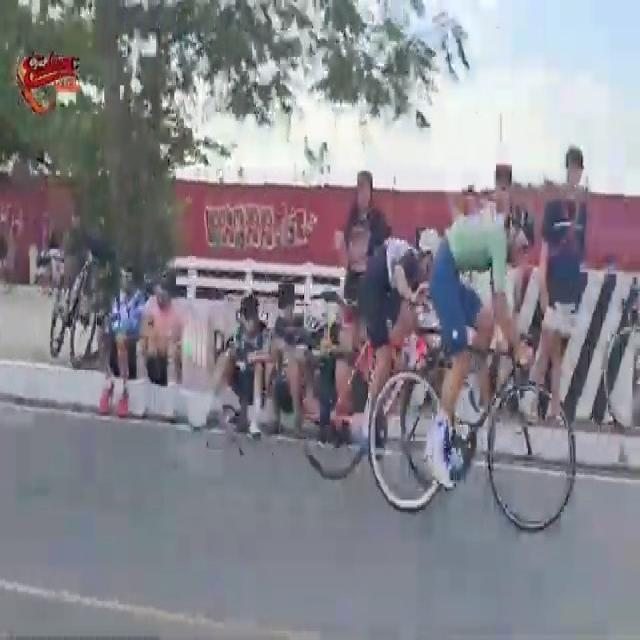bike: (364, 211, 578, 546), (296, 226, 478, 494), (48, 248, 102, 373), (602, 283, 640, 437)
